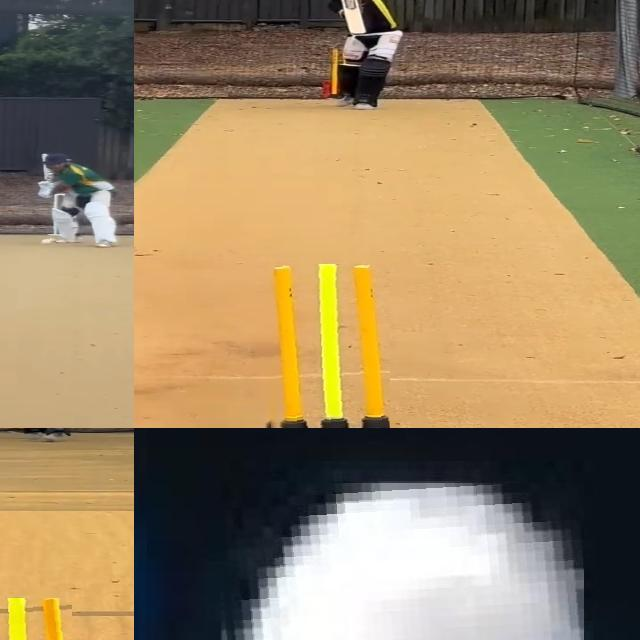Cricket ball: (213, 482, 584, 640), (41, 237, 56, 246)
Stumps: (256, 264, 390, 428)
